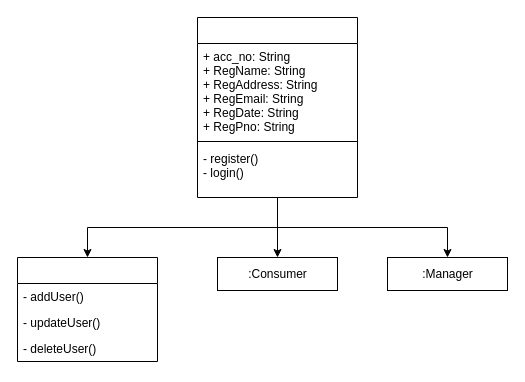
Some shapes in this 525 by 382 pixel diagram are drawn without their labels. Here are the shapes that lost their labels. From the top down, the box of each, then its label:
(196, 16, 358, 198): :User
(16, 256, 158, 362): :Admin
